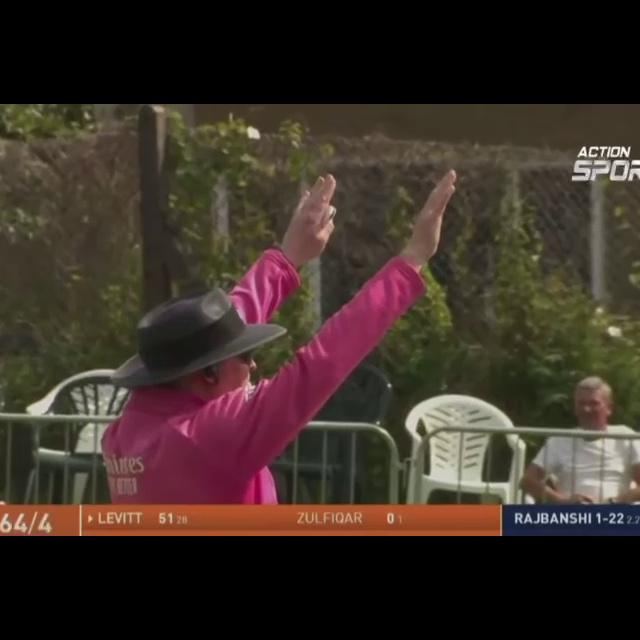umpire: (113, 151, 476, 492)
